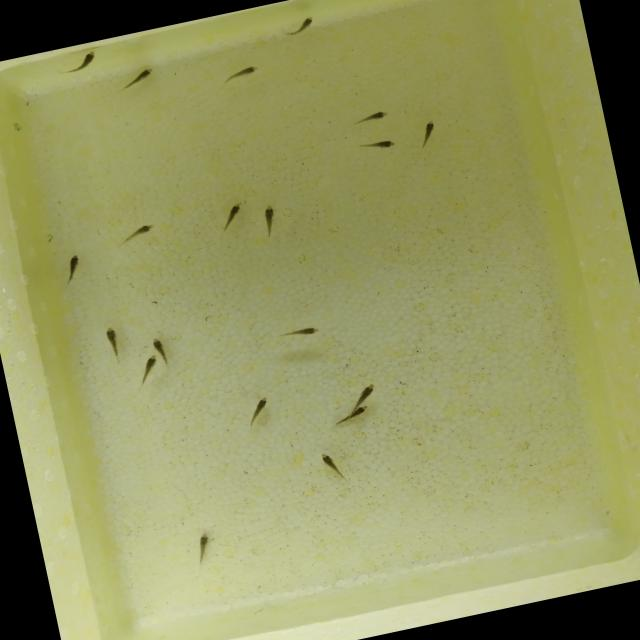fingerling: (341, 106, 391, 134), (352, 132, 401, 160), (116, 62, 160, 90), (272, 14, 317, 41), (57, 46, 100, 74), (118, 220, 162, 246), (310, 450, 346, 481), (278, 317, 322, 342), (192, 528, 220, 567), (242, 389, 276, 421), (214, 198, 248, 228), (96, 325, 122, 360), (259, 200, 283, 237), (416, 118, 442, 148), (350, 380, 381, 404), (220, 66, 260, 84), (62, 253, 83, 281), (140, 352, 164, 372), (148, 334, 171, 354), (346, 404, 371, 420)
